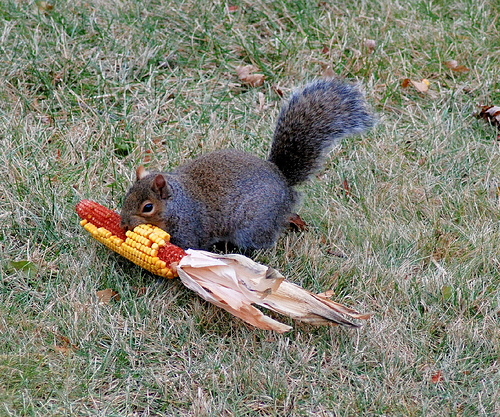corn: (76, 201, 173, 278)
